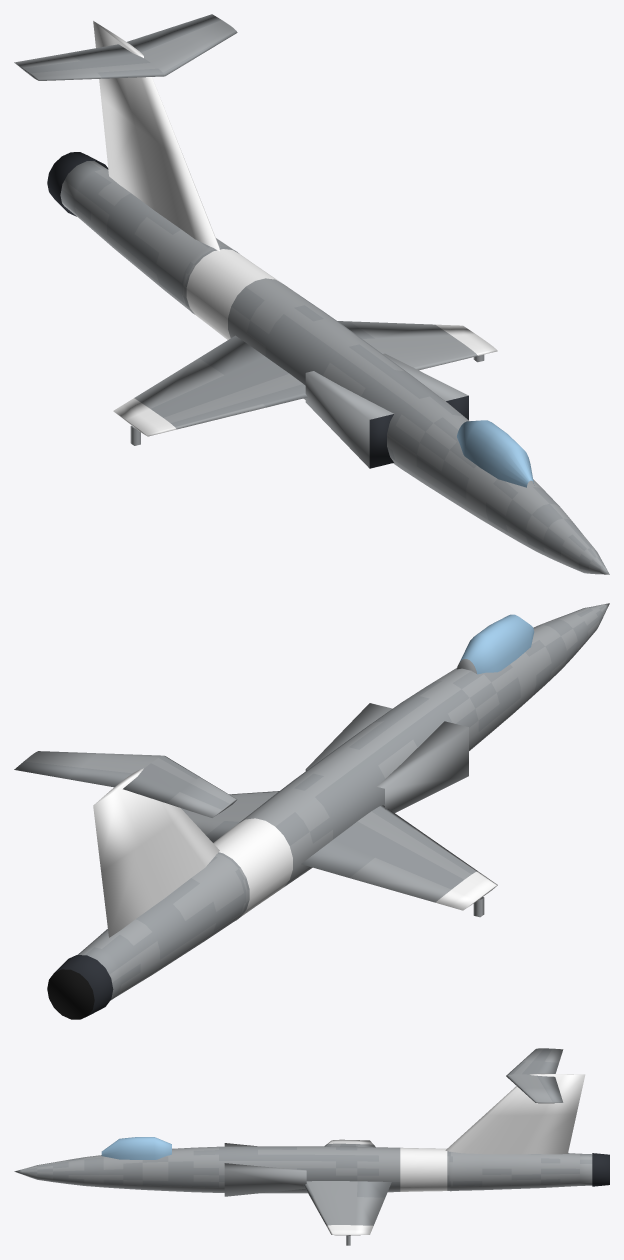
The picture shows the model from 3 angles, top to bottom: view 1: azimuth 30°, elevation 25°; view 2: azimuth 150°, elevation 25°; view 3: azimuth 270°, elevation 25°; orthographic projection. The views are drawn at different scales.
Visible parts, largest first — view 1: body; view 2: body; view 3: body.
Boxes of the visible parts, bbox=[...] form: body: bbox=[14, 14, 609, 574]; body: bbox=[14, 603, 609, 1019]; body: bbox=[14, 1048, 609, 1245].
Bounding box in the file's own units: 6.36 × 3.9 × 16.96.
